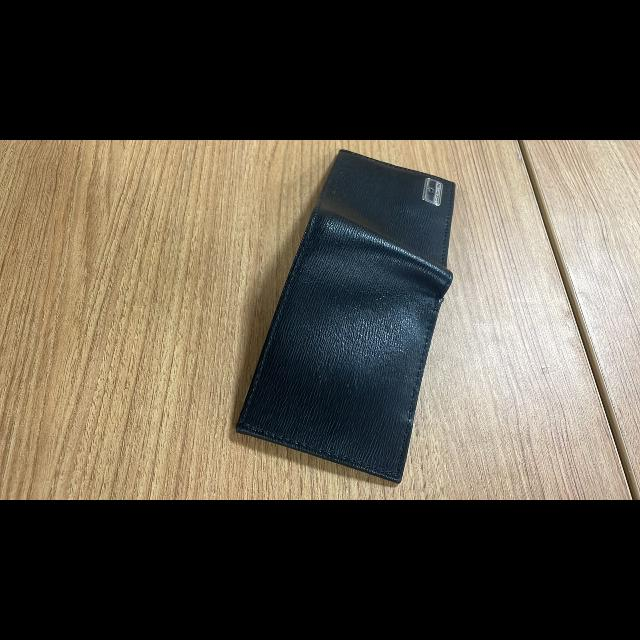wallet: (228, 140, 492, 500)
